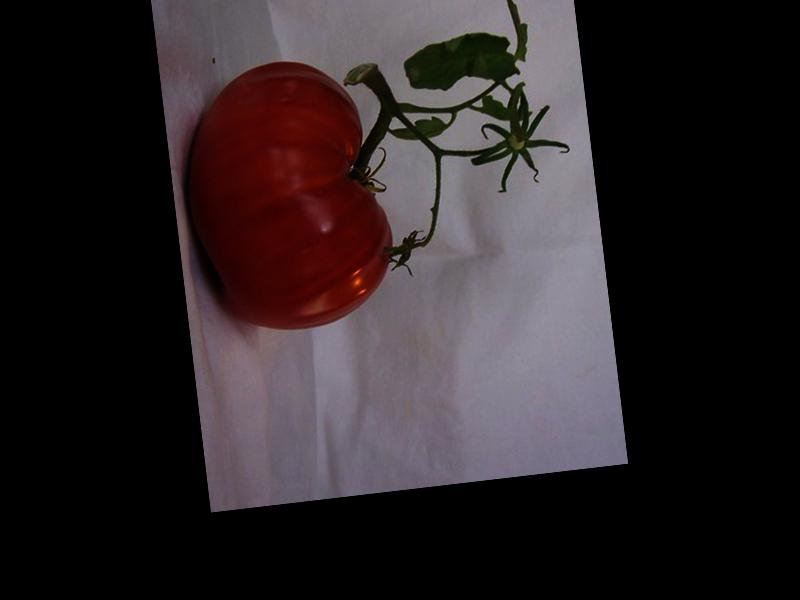Tomato: (172, 50, 400, 341)
